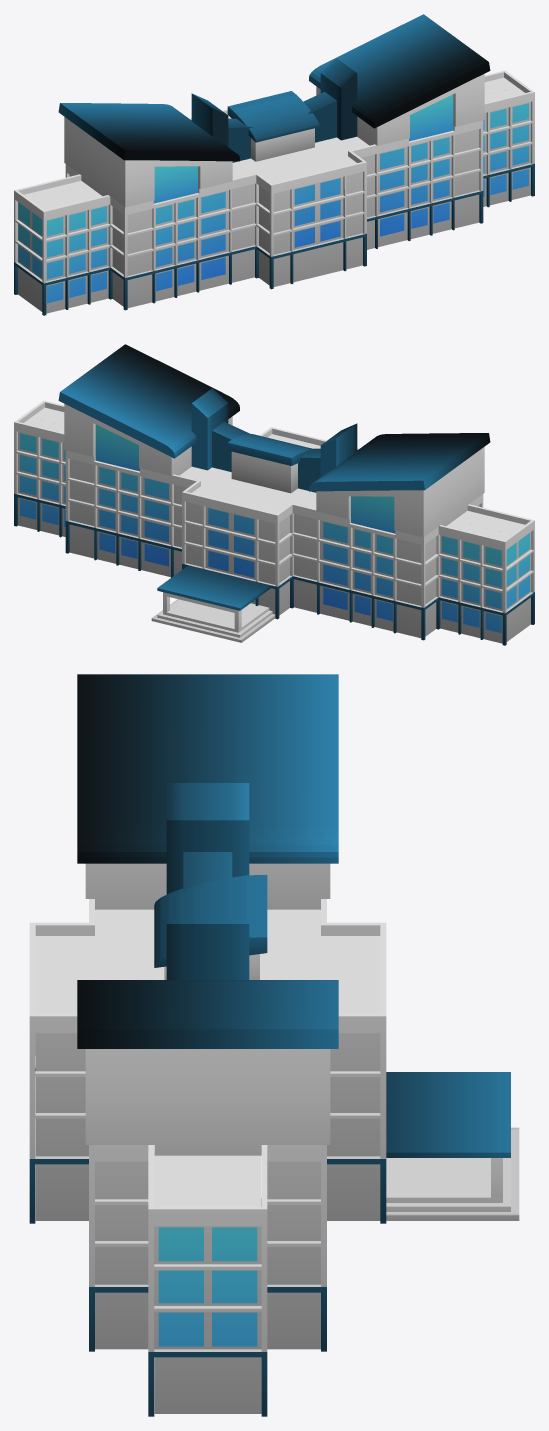
Rendered from Gedung FIK.fbx.
The picture shows the model from 3 angles, top to bottom: view 1: azimuth 30°, elevation 25°; view 2: azimuth 150°, elevation 25°; view 3: azimuth 270°, elevation 25°; orthographic projection. The views are drawn at different scales.
Parts seen in each view (by area): view 1: FIK; view 2: FIK; view 3: FIK.
Part boxes in pixels (box(x1,y1,x2,y2)): FIK: box(14, 14, 534, 315); FIK: box(14, 344, 534, 645); FIK: box(29, 674, 519, 1416).
Size of the model in its own units: 9543 by 3017 by 4121.
Materials: 1 (1 with a texture image).
